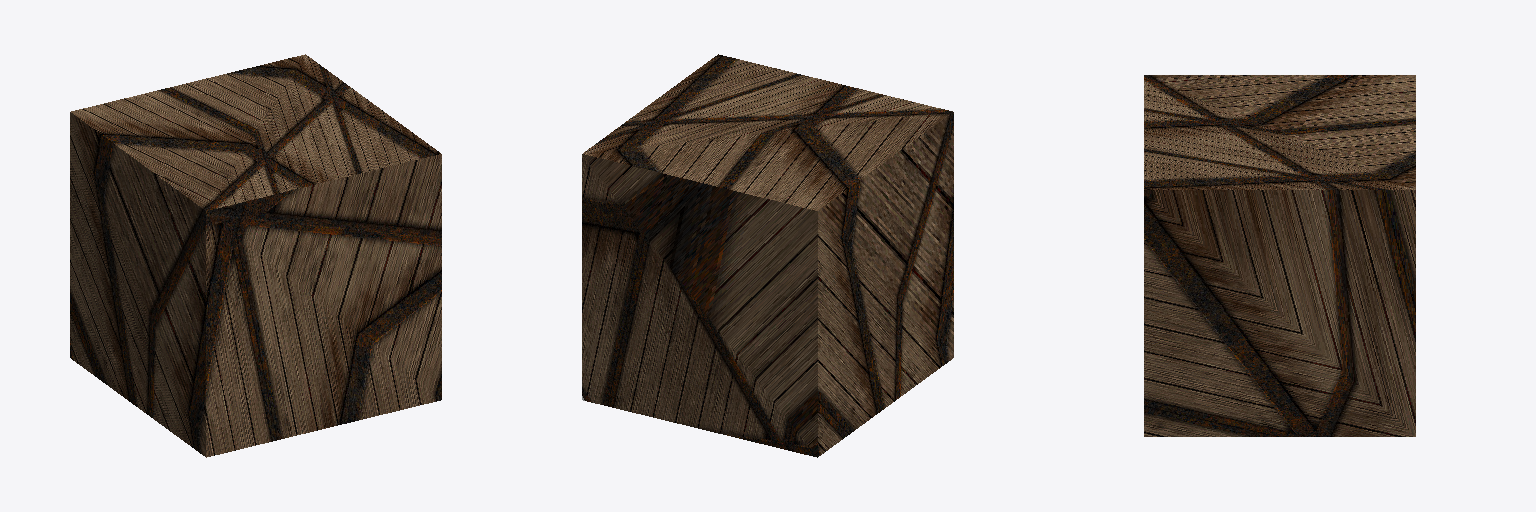
3 renders of one model, left to right at view 1: azimuth 30°, elevation 25°; view 2: azimuth 150°, elevation 25°; view 3: azimuth 270°, elevation 25°, orthographic.
Parts seen in each view (by area): view 1: Cube.000_Cube.003; view 2: Cube.000_Cube.003; view 3: Cube.000_Cube.003.
Part boxes in pixels (left/top/right/bottom): Cube.000_Cube.003: left=70, top=54, right=441, bottom=457; Cube.000_Cube.003: left=582, top=54, right=953, bottom=457; Cube.000_Cube.003: left=1144, top=75, right=1415, bottom=436.
Size of the model in its own units: 2 by 2 by 2.
Materials: 1 (1 with a texture image).